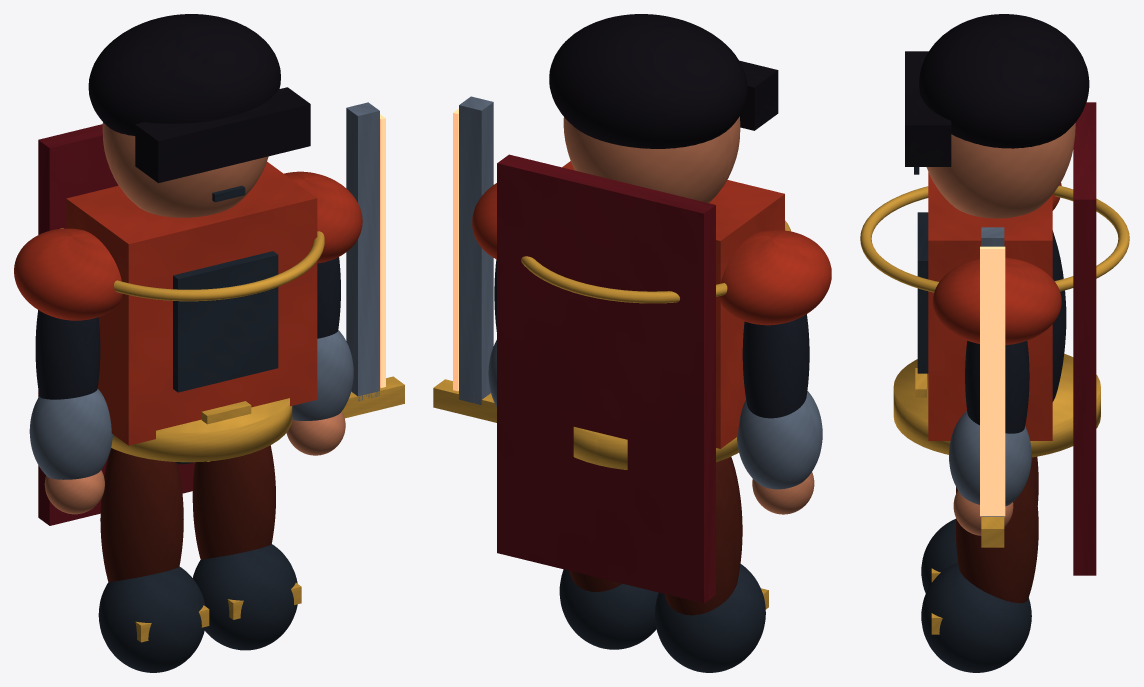
The model's file is Specialization.glb.
3 views of the same model, side by side, from view 1: azimuth 30°, elevation 25°; view 2: azimuth 150°, elevation 25°; view 3: azimuth 270°, elevation 25° (orthographic). The views are drawn at different scales.
Visible parts, largest first — view 1: ChestPlate, Hair, ChestInset, HairFringe, Leg, SwordBlade, Boot, Boot.001, Leg.001, Shoulder, Cape, Head (+12 smaller); view 2: Cape, Hair, SwordBlade, Shoulder, Head, ChestPlate, Boot, Arm, Gauntlet, Boot.001, Leg, ShoulderCrest (+7 smaller); view 3: Hair, ChestPlate, Cape, Head, Boot.001, SwordEdge, Shoulder.001, Leg.001, WaistGuard, Gauntlet.001, ShoulderCrest, HairFringe (+7 smaller).
Part boxes in pixels (x1,y1,x2,y2): ChestPlate: (66,161,317,445); Hair: (88,14,280,135); ChestInset: (173,251,278,392); HairFringe: (135,87,310,183); Leg: (100,448,183,581); SwordBlade: (346,102,379,401); Boot: (98,566,205,672); Boot.001: (193,544,297,650); Leg.001: (192,445,275,559); Shoulder: (14,228,122,320); Cape: (38,124,194,525); Head: (102,122,268,217); Cape: (497,154,715,603); Hair: (549,14,747,148); SwordBlade: (459,96,493,404); Shoulder: (718,230,831,325); Head: (563,116,740,203); ChestPlate: (562,161,784,448); Boot: (654,564,765,672); Arm: (742,314,809,418); Gauntlet: (737,391,822,489); Boot.001: (559,569,658,649); Leg: (664,457,742,615); ShoulderCrest: (521,220,791,303); Hair: (919,14,1089,148); ChestPlate: (928,172,1052,440); Cape: (1073,102,1096,575); Head: (926,123,1075,218); Boot.001: (921,563,1031,672); SwordEdge: (980,246,1005,516); Shoulder.001: (932,257,1061,344); Leg.001: (955,467,1038,603); WaistGuard: (893,354,1100,457); Gauntlet.001: (949,411,1031,506); ShoulderCrest: (860,185,1129,292); HairFringe: (905,51,951,166).
Bounding box in the file's own units: 1.86 × 2.96 × 1.17.
Materials: 12 (9 with a texture image).
